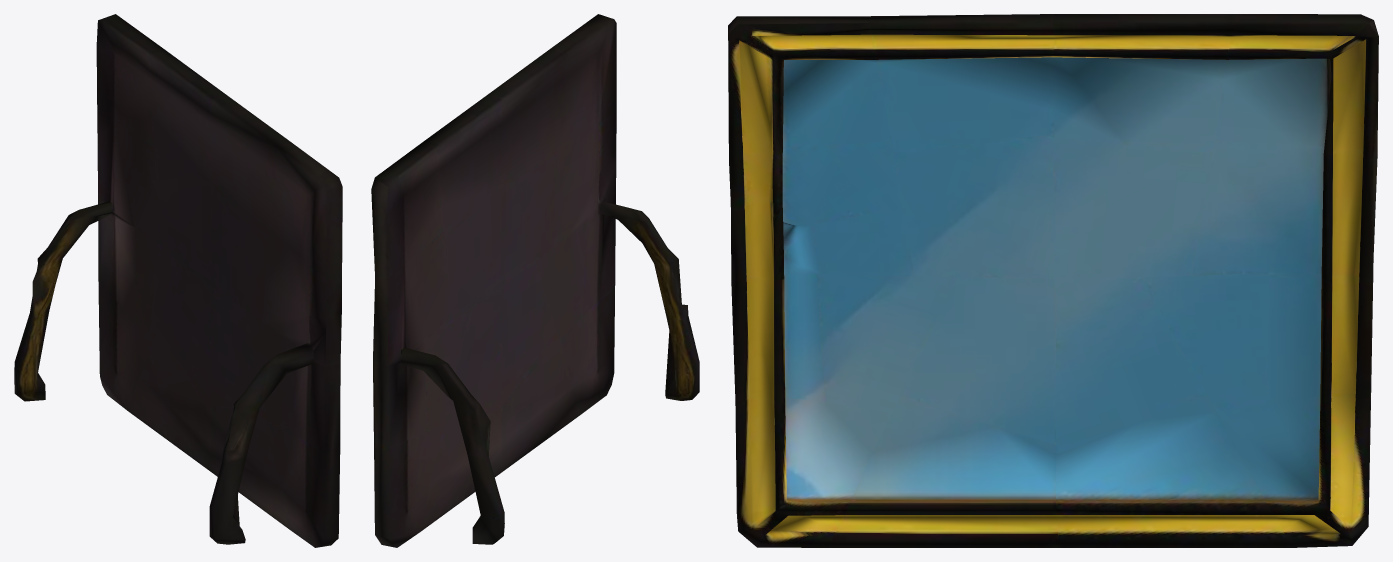
The model's file is gym-mirror.glb.
The picture shows the model from 3 angles, left to right: view 1: azimuth 30°, elevation 25°; view 2: azimuth 150°, elevation 25°; view 3: azimuth 270°, elevation 25°; orthographic projection. The views are drawn at different scales.
Visible parts, largest first — view 1: tripo_node_77c44f88-5a62-4be9-8b10-d75753d41843; view 2: tripo_node_77c44f88-5a62-4be9-8b10-d75753d41843; view 3: tripo_node_77c44f88-5a62-4be9-8b10-d75753d41843.
Boxes of the visible parts, x1=… form: tripo_node_77c44f88-5a62-4be9-8b10-d75753d41843: x1=14, y1=14, x2=342, y2=547; tripo_node_77c44f88-5a62-4be9-8b10-d75753d41843: x1=371, y1=14, x2=699, y2=547; tripo_node_77c44f88-5a62-4be9-8b10-d75753d41843: x1=728, y1=14, x2=1378, y2=547.
Size of the model in its own units: 0.2864 by 0.8847 by 0.9931.
Materials: 1 (1 with a texture image).
